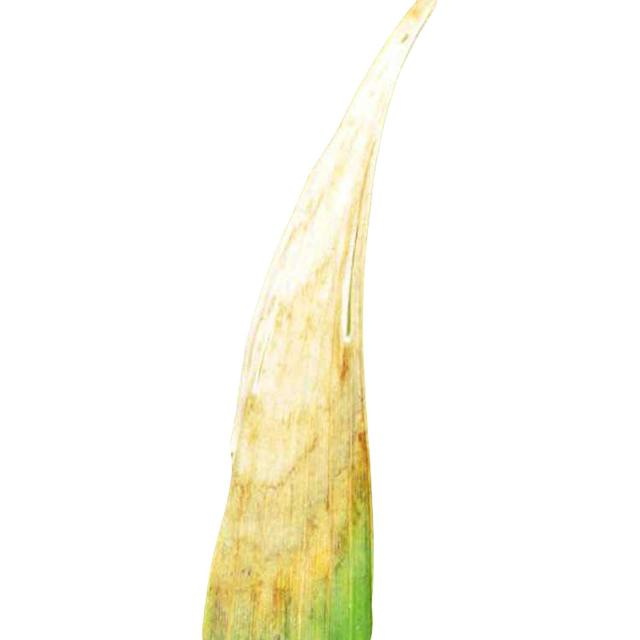Leaf scald: (167, 0, 540, 640)
